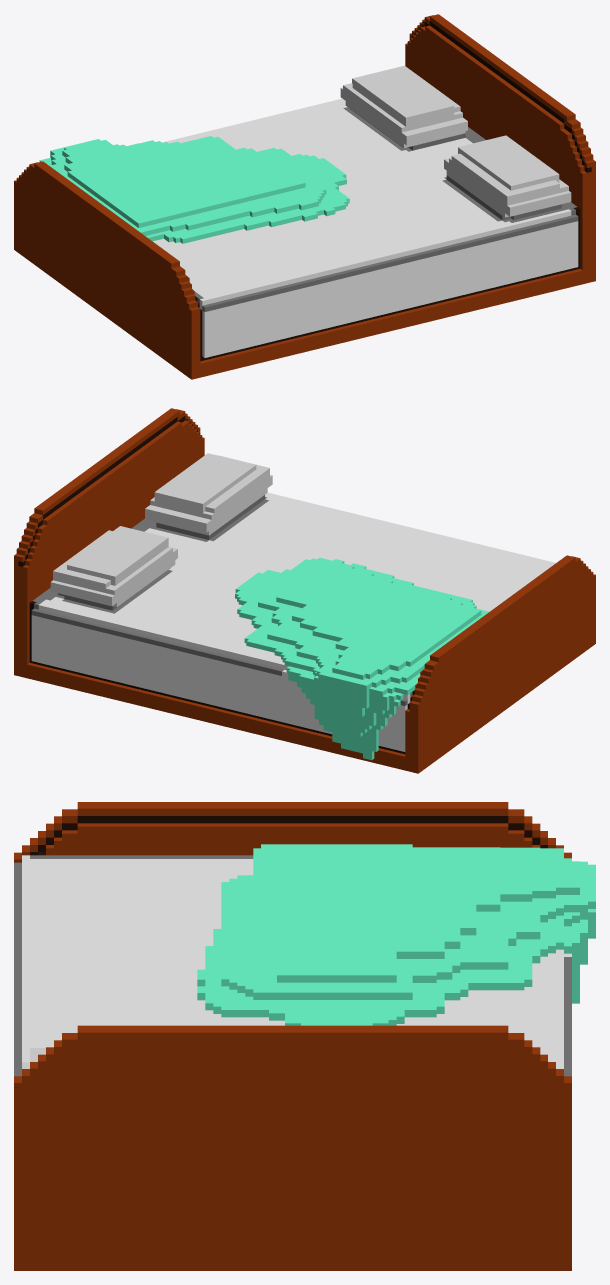
The model's file is bed2.obj.
The picture shows the model from 3 angles, top to bottom: view 1: azimuth 30°, elevation 25°; view 2: azimuth 150°, elevation 25°; view 3: azimuth 270°, elevation 25°; orthographic projection. The views are drawn at different scales.
Size of the model in its own units: 9.2 by 3.3 by 7.3.
Materials: 1 (1 with a texture image).
